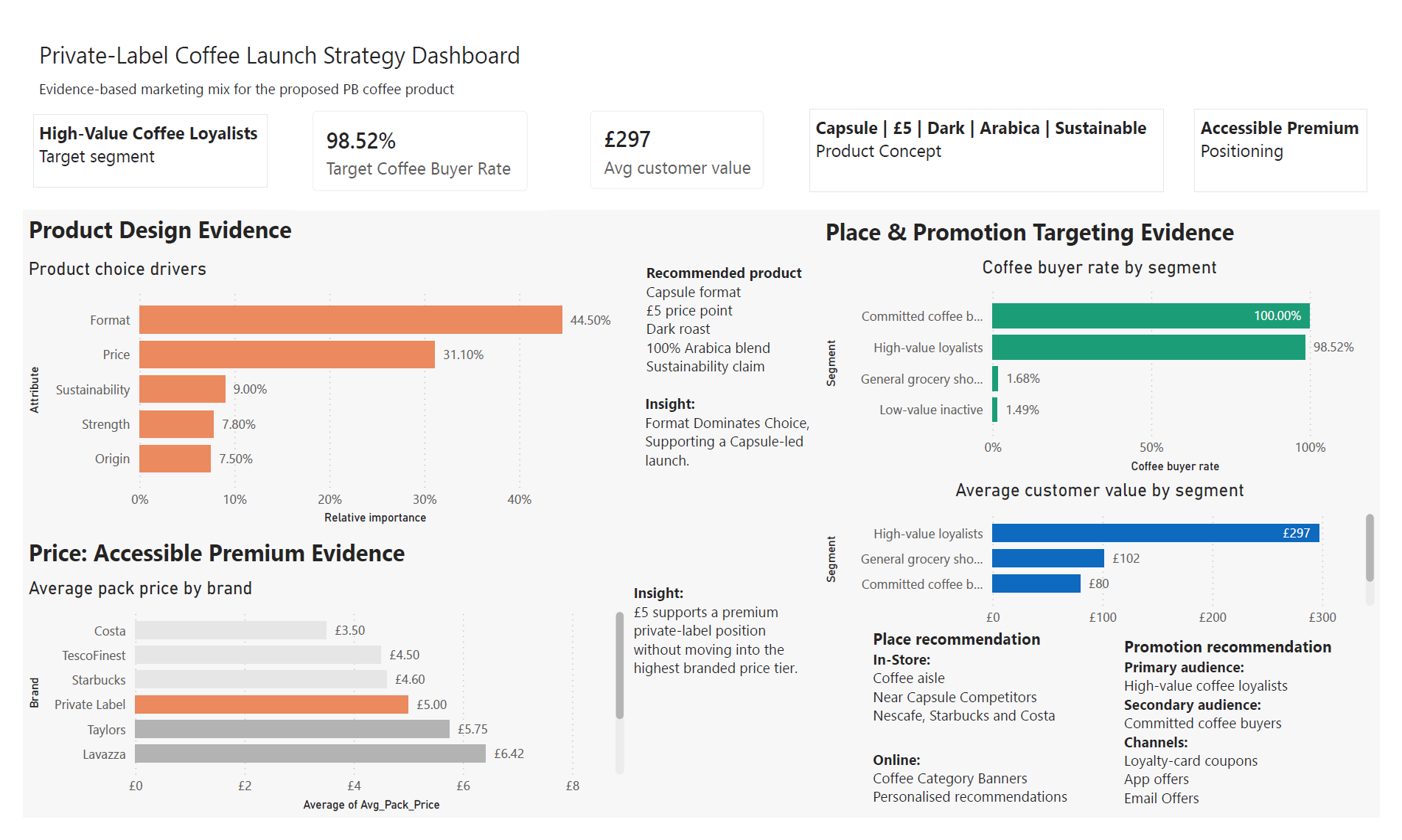

Layout of this report page (visuals, bound fields, positions):
{"tool":"powerbi","page":{"name":"Page 2","canvas":[1280,720],"ordinal":0},"visuals":[{"type":"textbox","box":[9.3,80.6,221.3,67.5],"z":0},{"type":"shape","box":[0,167.5,1279.8,552.5],"z":500},{"type":"cardVisual","fields":{"Data":["Avg(Cluster Profile.Coffee_Buyer_Rate)"]},"box":[256,60.8,237,107.1],"z":1000},{"type":"cardVisual","fields":{"Data":["Cluster Profile.Avg Target Customer Value"]},"box":[518.4,61.4,198.4,106],"z":2000},{"type":"textbox","box":[741.9,76.4,335,76],"z":3000},{"type":"textbox","box":[1105,76.4,164.4,76],"z":4000},{"type":"textbox","box":[10.4,7.3,485.5,39.5],"z":5000},{"type":"textbox","box":[10.1,43.9,410.8,27.4],"z":6000},{"type":"clusteredBarChart","title":"Product choice drivers","fields":{"Category":["Conjoint Importance.Attribute"],"Y":["Sum(Conjoint Importance.Importance (%))"]},"box":[0,211.3,571.8,247.9],"z":7000},{"type":"textbox","box":[0,166.5,262.6,44.8],"z":8000},{"type":"textbox","box":[582.8,210.9,169.3,119.5],"z":9000},{"type":"textbox","box":[581.7,330.3,170.4,82.1],"z":10000},{"type":"textbox","box":[0,459.2,371.4,42.1],"z":11000},{"type":"clusteredBarChart","title":"Average pack price by brand","fields":{"Category":["price_positioning_by_brand.Brand"],"Y":["Avg(price_positioning_by_brand.Avg_Pack_Price)"]},"box":[0,501.3,571.8,218.6],"z":12000},{"type":"textbox","box":[571.3,501.7,170.4,109.1],"z":14000},{"type":"clusteredBarChart","title":"Coffee buyer rate by segment","fields":{"Category":["Cluster Profile.Short_Segment"],"Y":["Avg(Cluster Profile.Coffee_Buyer_Rate)"]},"box":[752.1,209.8,527.7,202.6],"z":15000},{"type":"textbox","box":[752.3,167.5,457.8,44.7],"z":16000},{"type":"clusteredBarChart","title":"Average customer value by segment","fields":{"Category":["Cluster Profile.Short_Segment"],"Y":["Sum(Cluster Profile.Avg_Monetary)1"]},"box":[752.1,412.4,527.7,144.4],"z":17000},{"type":"textbox","box":[1033.8,549.4,213.3,170.6],"z":18000},{"type":"group","id":"g1","title":"Group 1","box":[796.6,542.1,209.1,177.9],"z":19000},{"type":"textbox","box":[796.6,542.1,209.1,111.4],"z":20000,"group":"g1"},{"type":"textbox","box":[796.6,653.5,208.8,66.5],"z":21000,"group":"g1"}]}

Visuals, with their boxes on the page's 1280x720 design canvas (x1, y1, x2, y2). These are canvas units, not pixel positions in the 1402x840 screenshot, which may show the page scaled, cropped or inside an application window:
textbox: region(9, 81, 231, 148)
shape: region(0, 168, 1280, 720)
cardVisual - Avg(Cluster Profile.Coffee_Buyer_Rate): region(256, 61, 493, 168)
cardVisual - Cluster Profile.Avg Target Customer Value: region(518, 61, 717, 167)
textbox: region(742, 76, 1077, 152)
textbox: region(1105, 76, 1269, 152)
textbox: region(10, 7, 496, 47)
textbox: region(10, 44, 421, 71)
"Product choice drivers" clusteredBarChart: region(0, 211, 572, 459)
textbox: region(0, 166, 263, 211)
textbox: region(583, 211, 752, 330)
textbox: region(582, 330, 752, 412)
textbox: region(0, 459, 371, 501)
"Average pack price by brand" clusteredBarChart: region(0, 501, 572, 720)
textbox: region(571, 502, 742, 611)
"Coffee buyer rate by segment" clusteredBarChart: region(752, 210, 1280, 412)
textbox: region(752, 168, 1210, 212)
"Average customer value by segment" clusteredBarChart: region(752, 412, 1280, 557)
textbox: region(1034, 549, 1247, 720)
"Group 1" group: region(797, 542, 1006, 720)
textbox: region(797, 542, 1006, 654)
textbox: region(797, 654, 1005, 720)
